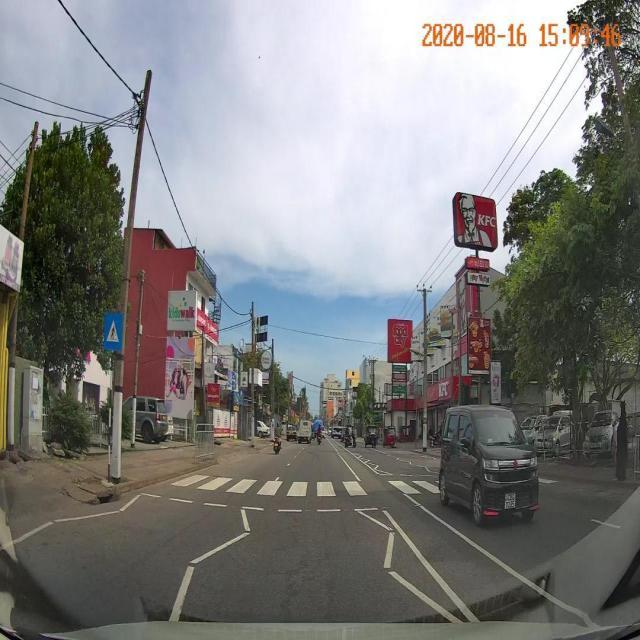Liniya 1: (419, 505, 583, 617), (382, 510, 481, 622), (387, 571, 467, 625), (189, 533, 250, 563), (168, 567, 197, 622), (12, 519, 57, 546), (53, 510, 122, 523), (357, 511, 395, 531), (588, 516, 625, 530), (119, 493, 142, 513), (342, 459, 361, 481), (383, 533, 395, 567), (360, 460, 382, 476), (241, 508, 250, 533), (274, 475, 281, 481)
Perehod: (168, 474, 422, 498)
